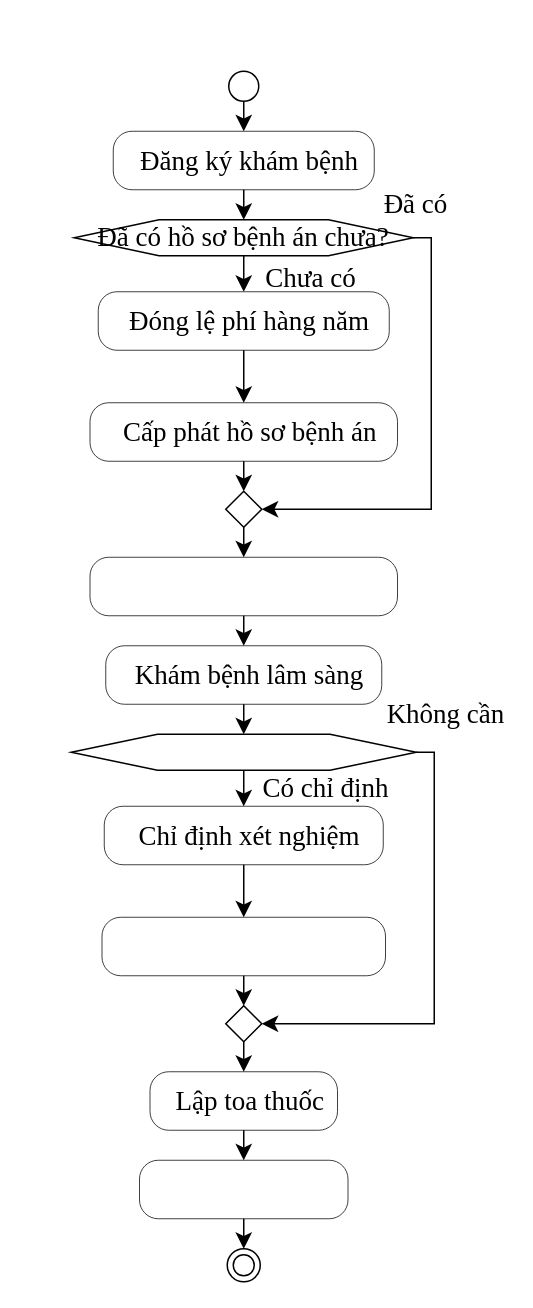
Image size: 533x1308. Some labels were removed from this diagram. Each missing label, with the centre of its shape:
"Có cần xét nghiệm không?" belongs at (243,751).
"Nhận toa thuốc" belongs at (243,1188).
"Thực hiện xét nghiệm" belongs at (243,945).
"Tra cứu lịch sử bệnh án" belongs at (243,585).
